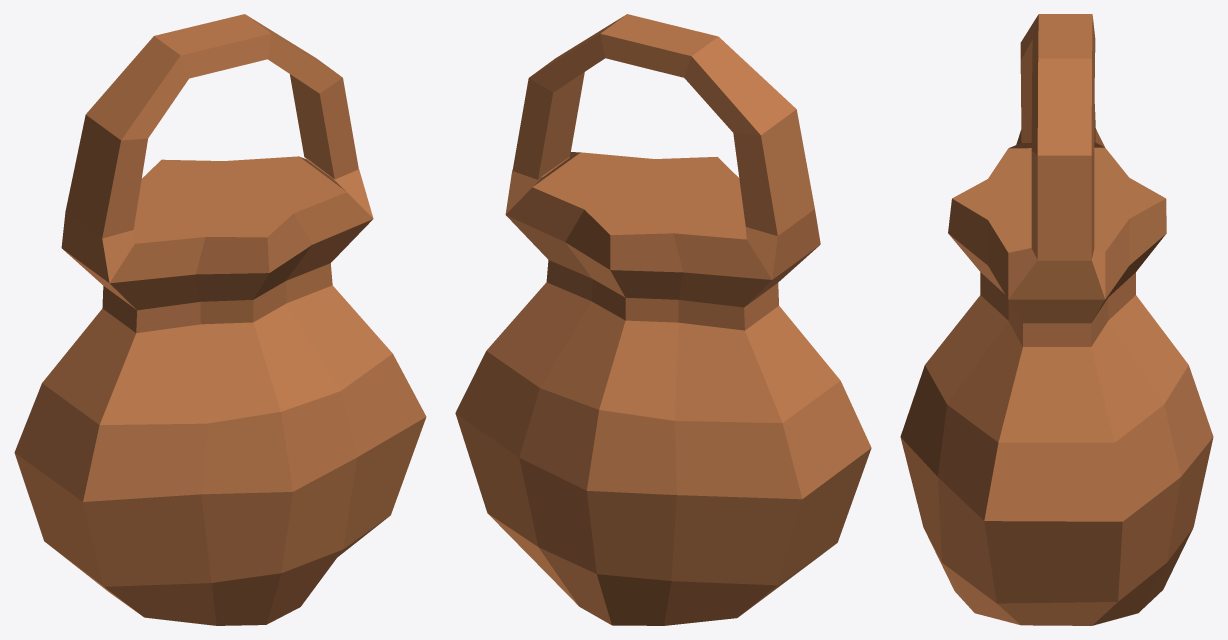
The model's file is pote.glb.
3 renders of one model, left to right at view 1: azimuth 30°, elevation 25°; view 2: azimuth 150°, elevation 25°; view 3: azimuth 270°, elevation 25°, orthographic.
Parts seen in each view (by area): view 1: Kamandalu; view 2: Kamandalu; view 3: Kamandalu.
Part boxes in pixels (x1=…): Kamandalu: x1=14, y1=14, x2=426, y2=625; Kamandalu: x1=455, y1=14, x2=871, y2=625; Kamandalu: x1=900, y1=14, x2=1213, y2=625.
Size of the model in its own units: 2.28 by 3.48 by 1.78.
